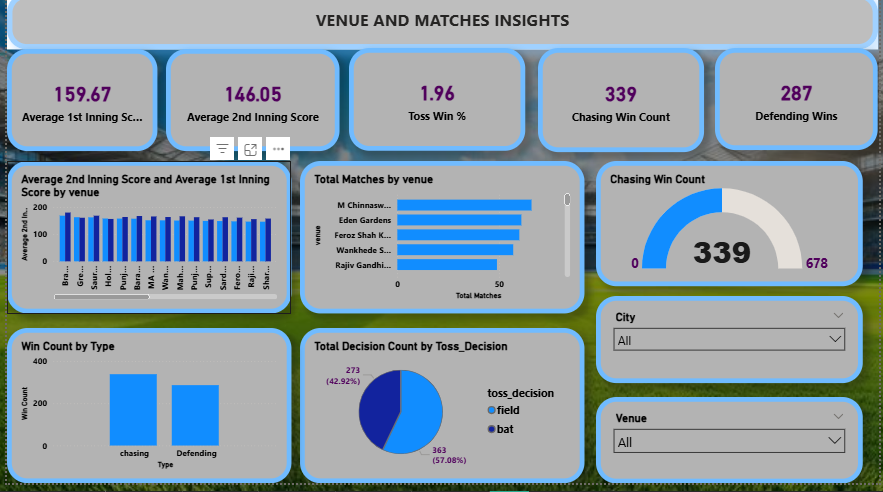

Layout of this report page (visuals, bound fields, positions):
{"tool":"powerbi","page":{"name":"Page 5","canvas":[1280,720],"ordinal":4},"visuals":[{"type":"textbox","box":[0,0,1280,83.3],"z":0},{"type":"textbox","box":[0,0,1280.1,83],"z":1000},{"type":"card","fields":{"Values":["bstmn.Average 1st Inning Score"]},"box":[0,83,221.2,149.6],"z":2000},{"type":"card","fields":{"Values":["bstmn.Average 2nd Inning Score"]},"box":[234.2,83,255.4,149.6],"z":3000},{"type":"card","fields":{"Values":["bstmn.Toss Win %"]},"box":[502.6,81.3,258.6,151.3],"z":4000},{"type":"card","fields":{"Values":["bstmn.Chasing Win Count"]},"box":[780.7,81.3,244,152.9],"z":5000},{"type":"card","fields":{"Values":["bstmn.Defending Wins"]},"box":[1041,81.3,239.1,149.6],"z":6000},{"type":"clusteredColumnChart","fields":{"Category":["matches.venue"],"Y":["bstmn.Average 2nd Inning Score","bstmn.Average 1st Inning Score"]},"box":[0,247.2,418,224.5],"z":7000},{"type":"barChart","fields":{"Category":["matches.venue"],"Y":["deliveries.Total Matches"]},"box":[431,247.2,418,224.5],"z":8000},{"type":"pieChart","title":"Total Decision Count by Toss_Decision","fields":{"Y":["bstmn.Total Decision Count"],"Category":["matches.toss_decision"]},"box":[431,492.8,418,227.7],"z":9000},{"type":"columnChart","fields":{"Category":["Win Type.Type"],"Y":["Win Type.Win Count"]},"box":[0,492.8,418,227.7],"z":10000},{"type":"gauge","fields":{"Y":["bstmn.Chasing Win Count"]},"box":[865.3,247.2,392,183.8],"z":11000},{"type":"slicer","fields":{"Values":["matches.city"]},"box":[865.3,445.7,392,128.5],"z":12000},{"type":"slicer","fields":{"Values":["matches.venue"]},"box":[865.3,593.7,392,126.9],"z":13000}]}

Visuals, with their boxes in screenshot pixels (x1, y1, x2, y2), scaled from the page's 1280x720 canvas onto the 883x492 screenshot:
textbox: {"left": 0, "top": 0, "right": 882, "bottom": 57}
textbox: {"left": 0, "top": 0, "right": 882, "bottom": 57}
card - bstmn.Average 1st Inning Score: {"left": 0, "top": 57, "right": 153, "bottom": 159}
card - bstmn.Average 2nd Inning Score: {"left": 162, "top": 57, "right": 338, "bottom": 159}
card - bstmn.Toss Win %: {"left": 347, "top": 56, "right": 525, "bottom": 159}
card - bstmn.Chasing Win Count: {"left": 539, "top": 56, "right": 707, "bottom": 160}
card - bstmn.Defending Wins: {"left": 718, "top": 56, "right": 882, "bottom": 158}
clusteredColumnChart - matches.venue x bstmn.Average 2nd Inning Score: {"left": 0, "top": 169, "right": 288, "bottom": 322}
barChart - matches.venue x deliveries.Total Matches: {"left": 297, "top": 169, "right": 586, "bottom": 322}
"Total Decision Count by Toss_Decision" pieChart: {"left": 297, "top": 337, "right": 586, "bottom": 491}
columnChart - Win Type.Type x Win Type.Win Count: {"left": 0, "top": 337, "right": 288, "bottom": 491}
gauge - bstmn.Chasing Win Count: {"left": 597, "top": 169, "right": 867, "bottom": 295}
slicer - matches.city: {"left": 597, "top": 305, "right": 867, "bottom": 392}
slicer - matches.venue: {"left": 597, "top": 406, "right": 867, "bottom": 491}
